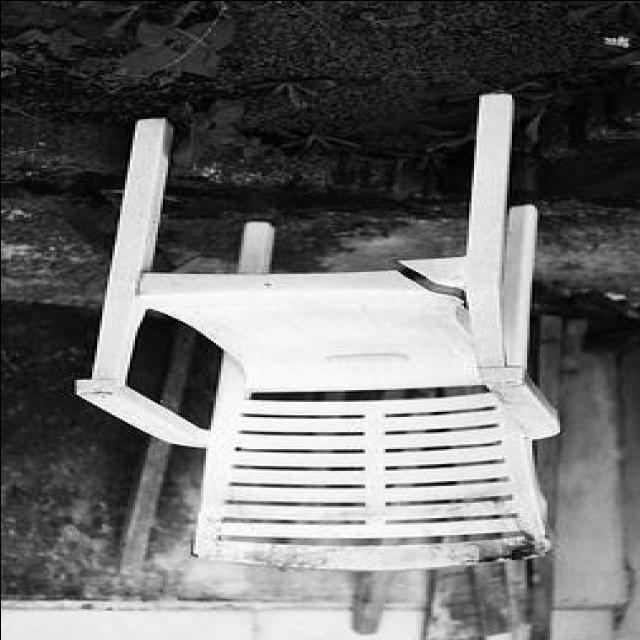chair: (73, 91, 563, 572)
